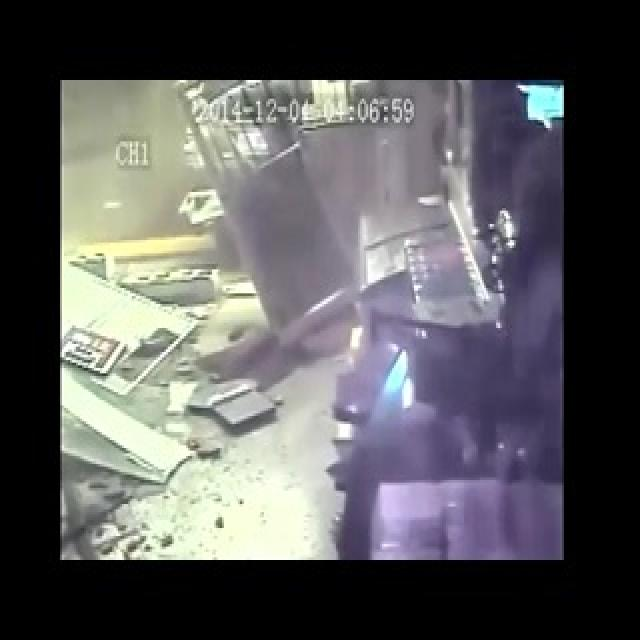burglary: (66, 98, 271, 437)
